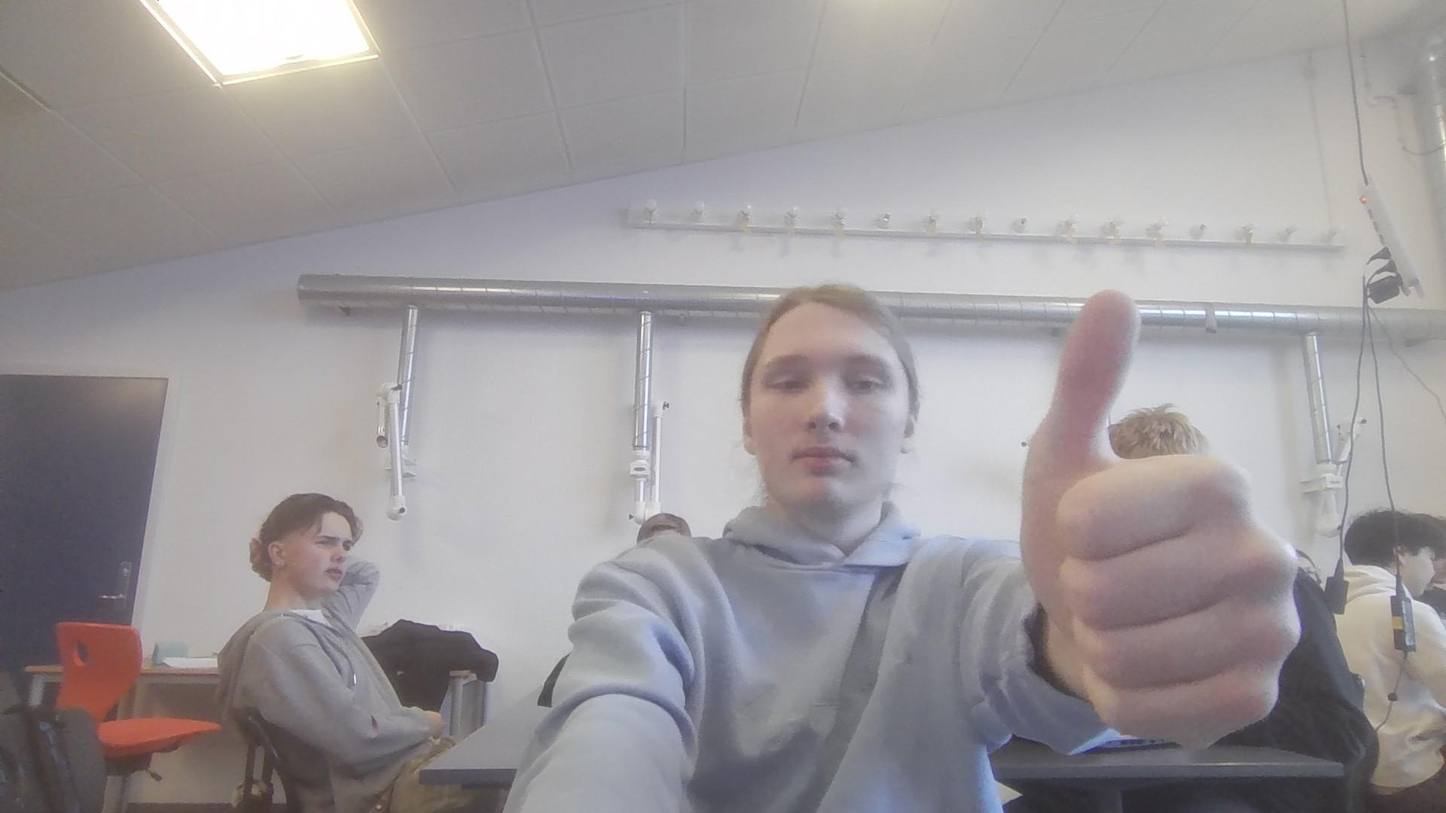thumbs up: (1017, 279, 1305, 749)
